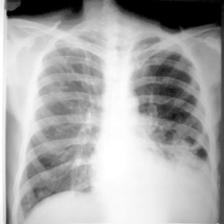tuberculosis: (18, 23, 214, 224)
